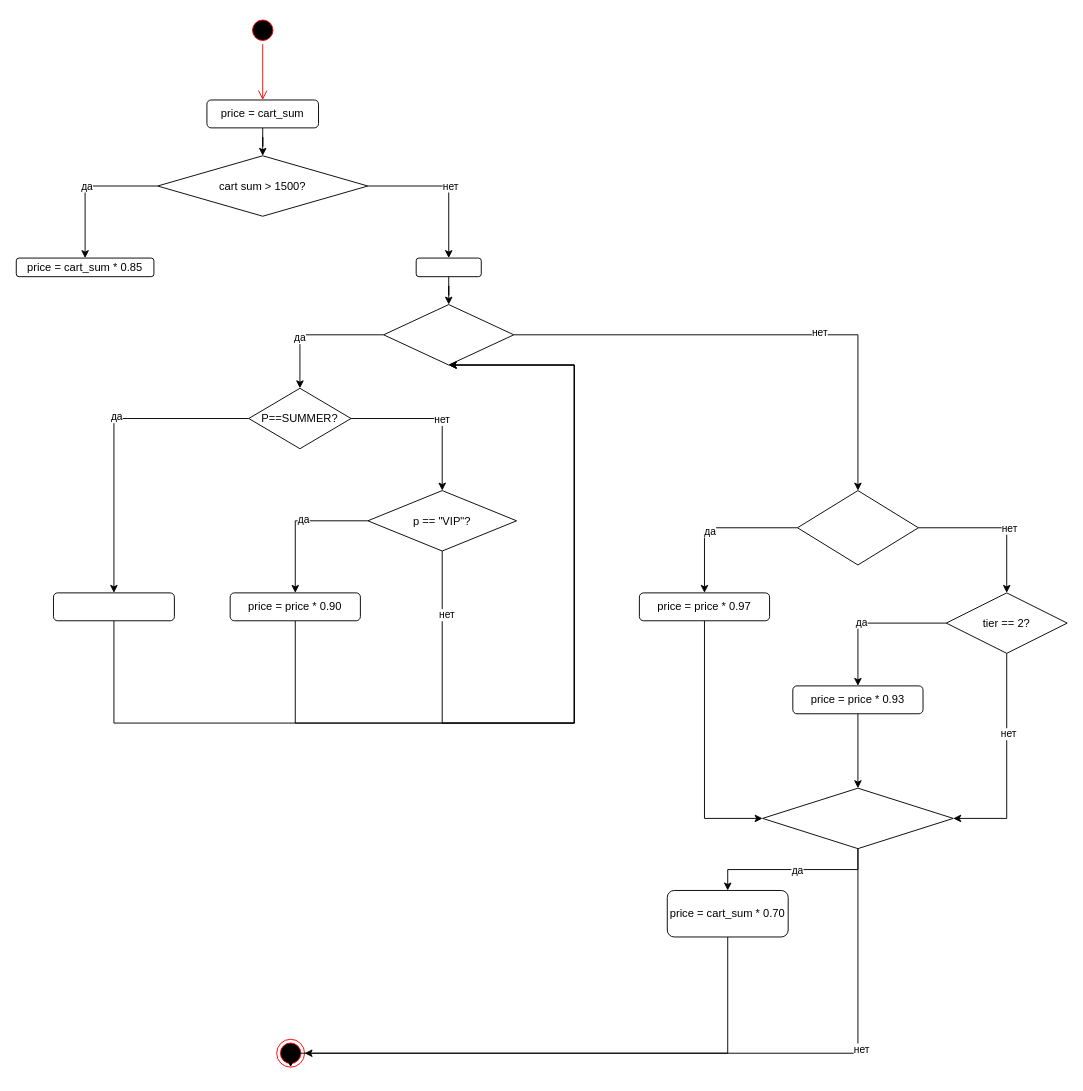
The diagram is 1083 pixels wide and 1091 high, and some of its shapes have lost their labels. Here are the shapes that lost their labels. From the top down, the centre of each, then its label:
At (448,267): "p = 0".
At (448,334): "Есть еще промокоды?".
At (857,527): "tier == 1?".
At (113,606): "price = price - 500".
At (857,818): "price < cart_sum * 0.70?".
